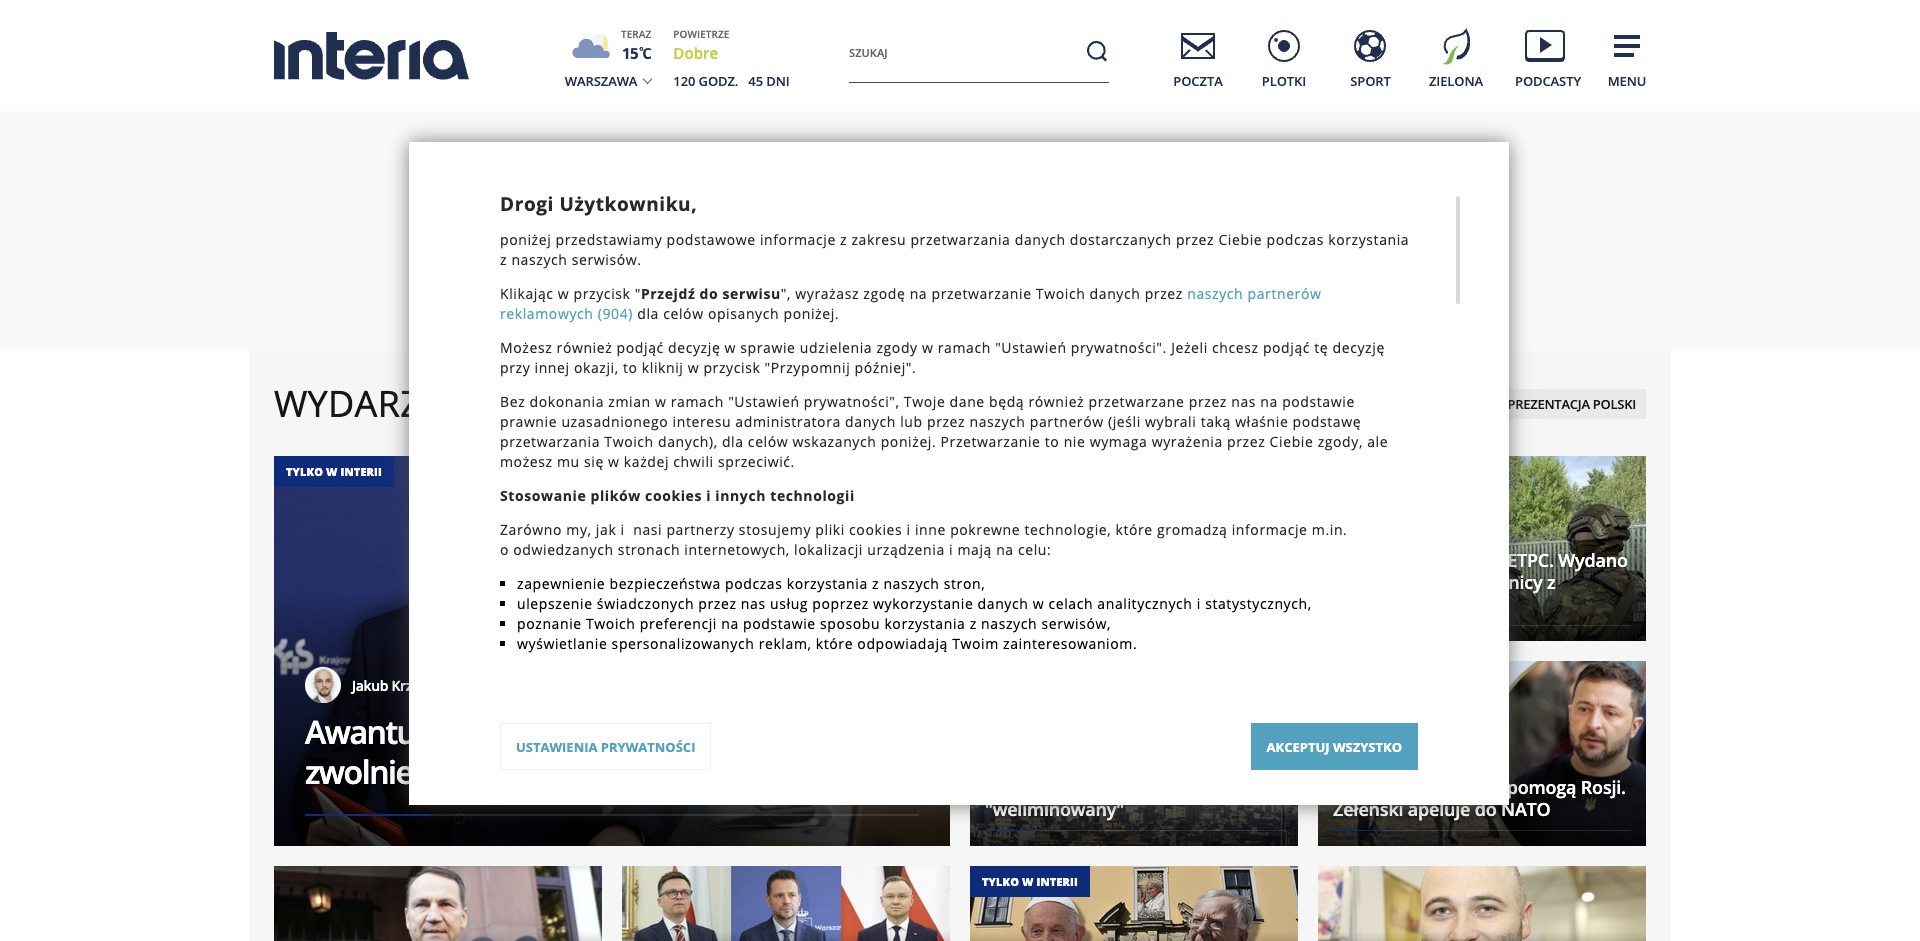button: (458, 711, 1460, 769), (550, 102, 999, 173), (550, 183, 999, 230), (500, 723, 711, 769), (1250, 723, 1418, 769), (1067, 21, 1127, 81), (1011, 123, 1052, 162)
input: (550, 109, 999, 172), (849, 32, 1109, 82)
label: (849, 32, 850, 33)
link: (274, 456, 950, 845), (305, 712, 920, 845), (970, 456, 1298, 641), (1318, 456, 1646, 641), (970, 660, 1298, 845), (1318, 660, 1646, 845), (500, 714, 1376, 754), (500, 284, 1321, 323), (274, 0, 514, 111), (274, 866, 602, 941), (622, 866, 950, 941), (970, 866, 1298, 941), (1318, 866, 1646, 941), (550, 234, 1004, 285), (550, 336, 1004, 387), (550, 437, 1004, 489), (550, 489, 1004, 540), (550, 591, 1004, 642), (550, 642, 1004, 693), (550, 744, 1004, 795), (550, 845, 1004, 897), (550, 285, 1004, 336), (550, 387, 1004, 437), (550, 540, 1004, 591), (550, 693, 1004, 744), (550, 795, 1004, 845), (550, 897, 1004, 941), (274, 379, 599, 429), (545, 25, 654, 72), (1335, 16, 1406, 88), (1483, 388, 1646, 419), (1038, 388, 1196, 419), (1168, 16, 1228, 88), (1254, 16, 1314, 88), (1427, 16, 1487, 88), (1515, 16, 1575, 88), (1597, 16, 1657, 88), (1332, 388, 1472, 419), (1834, 853, 1896, 916), (1206, 388, 1322, 419), (673, 25, 730, 67), (351, 675, 463, 695), (305, 667, 347, 703), (564, 74, 654, 89), (673, 72, 738, 91), (748, 72, 790, 91)
